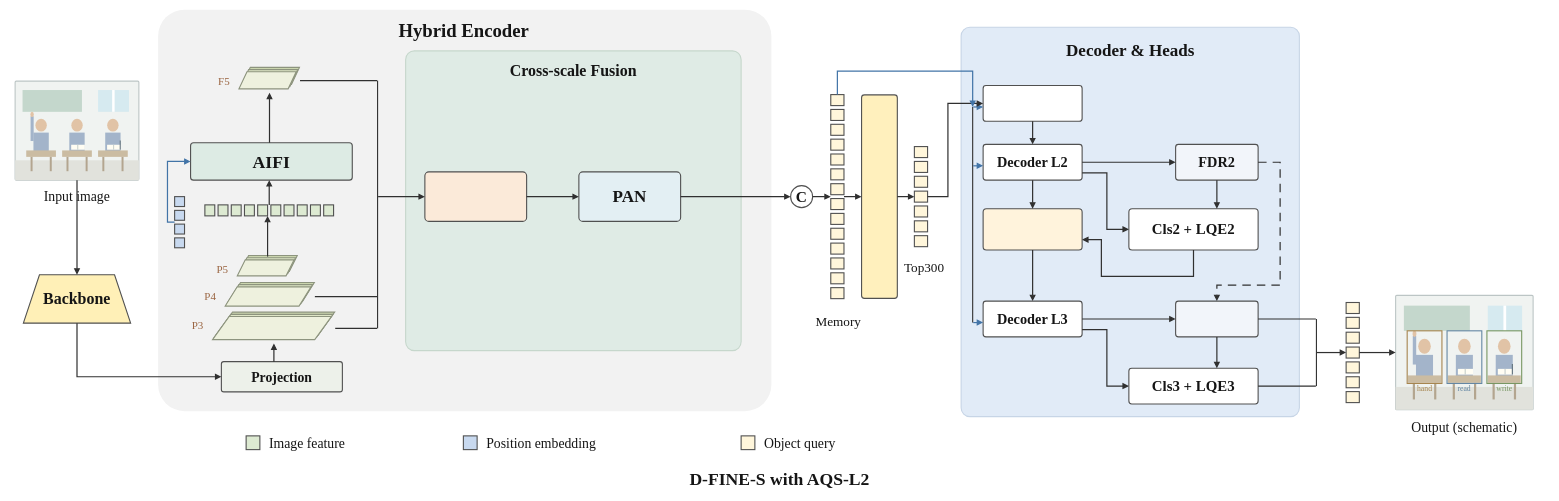
Image size: 1559x501. Some labels were removed from this diagram. The shapes that lost their labels are listed below. From the top down, each one's centre as x and y in pixels, then its label:
the point at 1032,103: Decoder L1
the point at 475,196: FPN
the point at 879,196: Query Selection
the point at 1032,229: AQS
the point at 1216,318: FDR3
